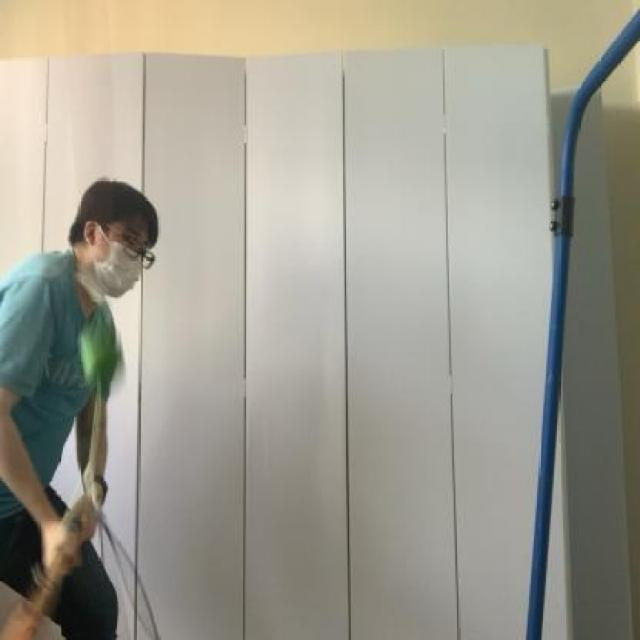baseball: (78, 307, 130, 393)
